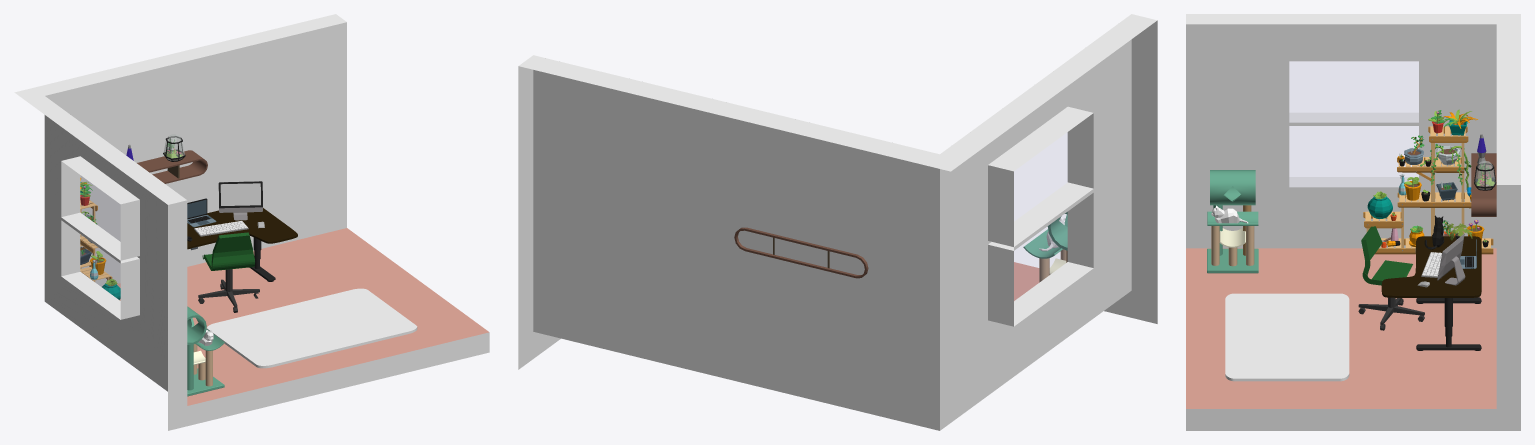
The model's file is roomnew.glb.
The picture shows the model from 3 angles, left to right: view 1: azimuth 30°, elevation 25°; view 2: azimuth 150°, elevation 25°; view 3: azimuth 270°, elevation 25°; orthographic projection. The views are drawn at different scales.
Visible parts, largest first — view 1: Plane, WawaRug, Desk, Chair, pPlane1 Mesh_CatTree1, Plant Shelf, iMac, SM_Shelf:SM_Shelf1, Macbook, keyboard, Plant Glass; view 2: Plane, pPlane1 Mesh_CatTree1, SM_Shelf:SM_Shelf1; view 3: Plane, WawaRug, Plant Shelf, Desk, pPlane1 Mesh_CatTree1, Chair, SM_Shelf:SM_Shelf1, iMac, Plant Glass, cat_立方体.009, keyboard, Black Cat.
Boxes of the visible parts, left/top/right/bottom form: Plane: left=14, top=14, right=489, bottom=430; WawaRug: left=207, top=288, right=417, bottom=368; Desk: left=187, top=208, right=297, bottom=281; Chair: left=198, top=232, right=259, bottom=312; pPlane1 Mesh_CatTree1: left=187, top=306, right=224, bottom=396; Plant Shelf: left=80, top=177, right=120, bottom=300; iMac: left=218, top=181, right=262, bottom=220; SM_Shelf:SM_Shelf1: left=137, top=150, right=207, bottom=183; Macbook: left=187, top=198, right=216, bottom=227; keyboard: left=194, top=221, right=248, bottom=236; Plant Glass: left=163, top=134, right=185, bottom=161; Plane: left=518, top=14, right=1157, bottom=430; pPlane1 Mesh_CatTree1: left=1023, top=212, right=1067, bottom=282; SM_Shelf:SM_Shelf1: left=734, top=227, right=868, bottom=278; Plane: left=1186, top=14, right=1520, bottom=430; WawaRug: left=1225, top=293, right=1349, bottom=381; Plant Shelf: left=1363, top=109, right=1493, bottom=254; Desk: left=1381, top=236, right=1481, bottom=350; pPlane1 Mesh_CatTree1: left=1207, top=170, right=1258, bottom=273; Chair: left=1358, top=226, right=1424, bottom=330; SM_Shelf:SM_Shelf1: left=1471, top=153, right=1496, bottom=216; iMac: left=1437, top=234, right=1465, bottom=285; Plant Glass: left=1474, top=161, right=1496, bottom=190; cat_立方体.009: left=1211, top=205, right=1248, bottom=223; keyboard: left=1421, top=252, right=1441, bottom=277; Black Cat: left=1424, top=215, right=1444, bottom=249.
Size of the model in its own units: 5.72 by 3.84 by 4.74.
64 materials, 1 textured.
